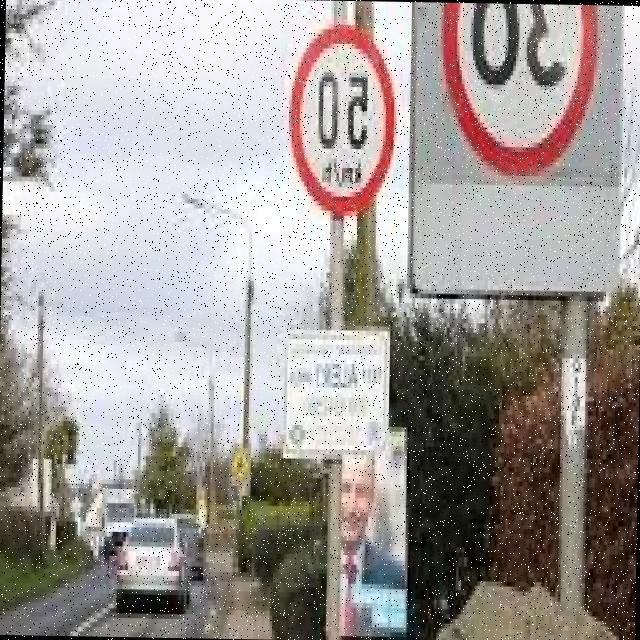speed_limit_30: (432, 2, 602, 196)
speed_limit_50: (274, 15, 404, 230)
